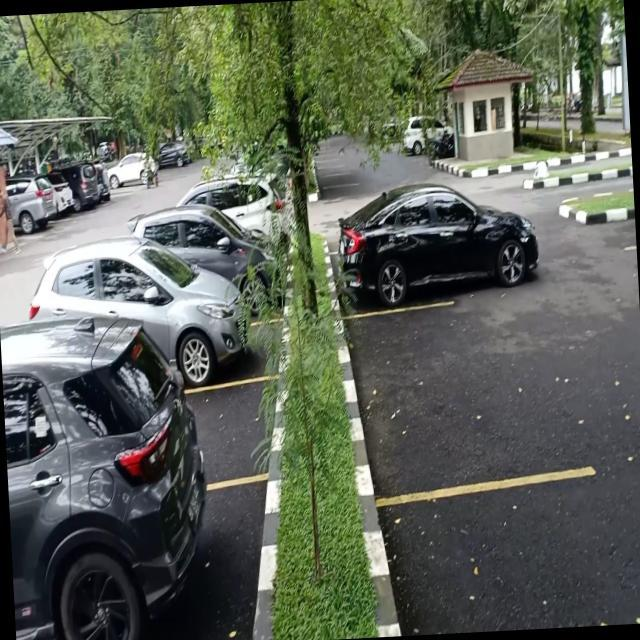empty: (358, 301, 582, 495), (191, 376, 276, 489)
occupied: (340, 195, 530, 322), (150, 273, 282, 392)
